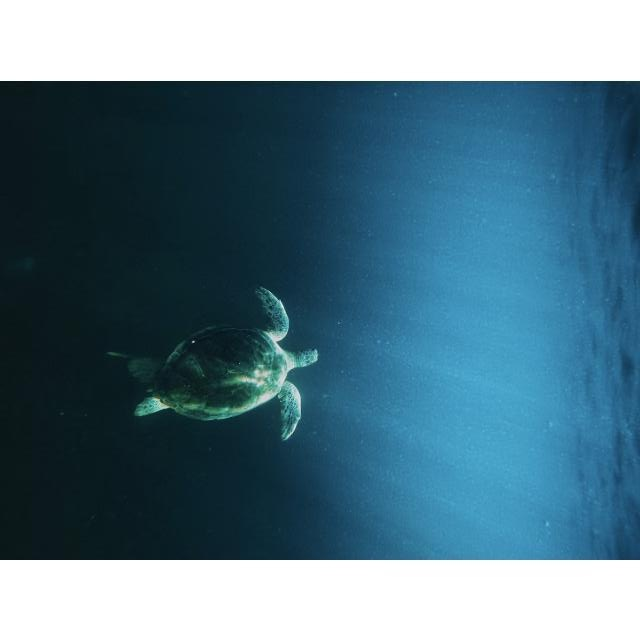turtle: (107, 285, 319, 438)
